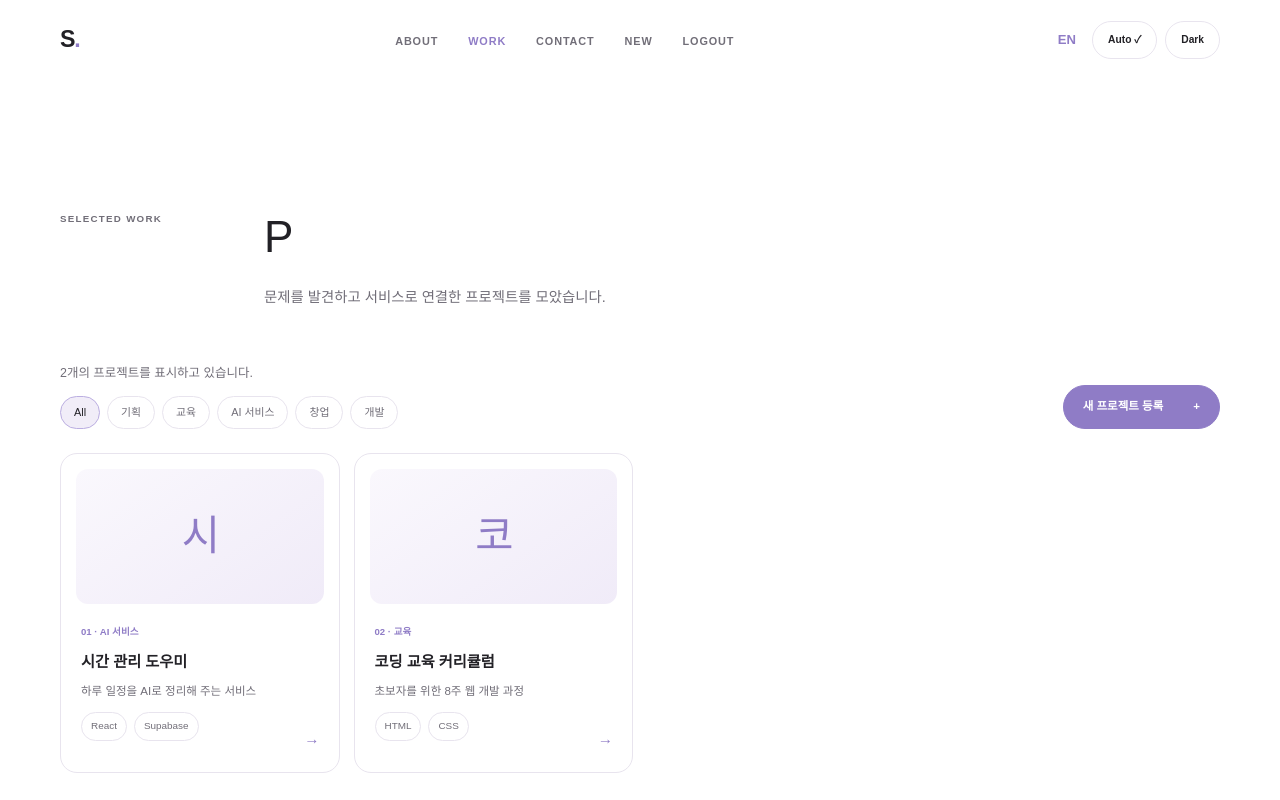
WORK 페이지 화면 개선 › 필터 결과가 없으면 전체 보기 버튼으로 필터를 되돌린다
The width and height of the screenshot is (1280, 800).
What coordinates should you click on to do the following:
click the button "창업"
I would click on:
 (319, 412)
Its box is [295,396,343,429].
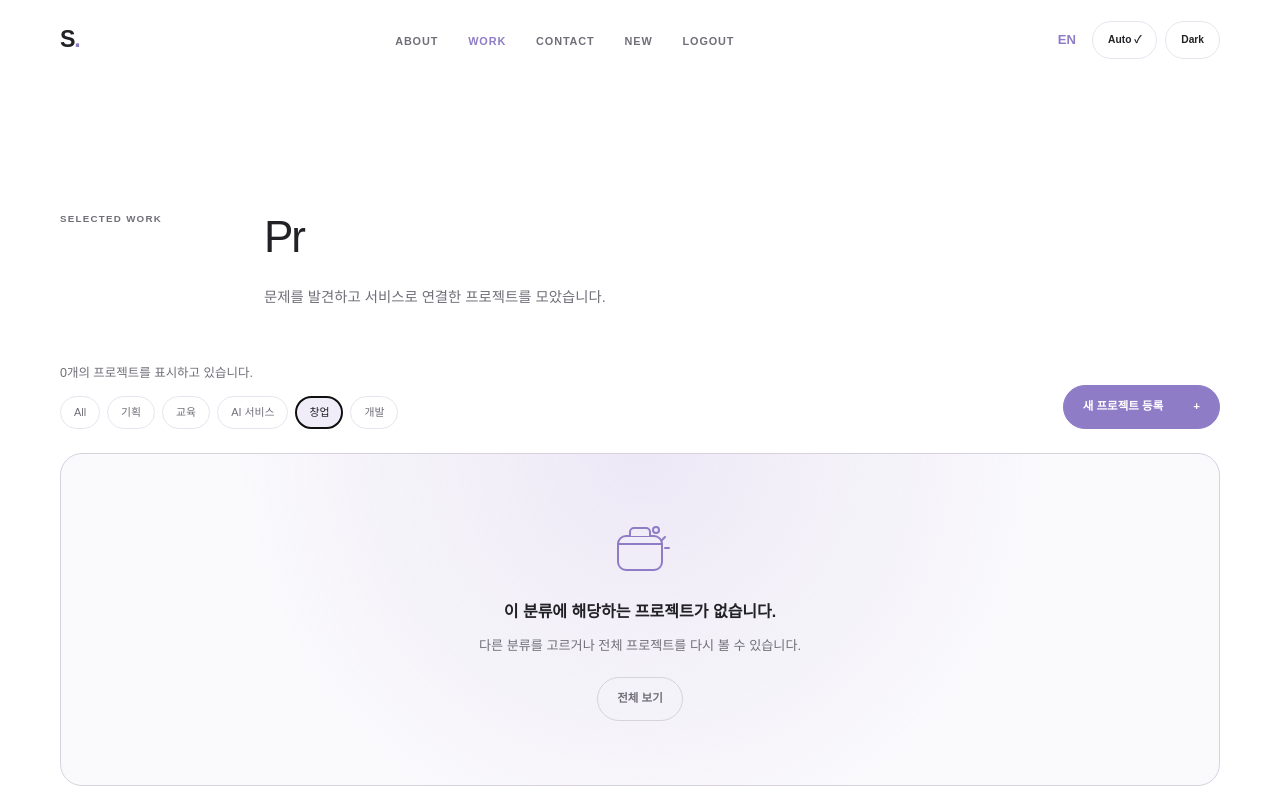
What coordinates should you click on to do the following:
click the button "전체 보기"
I would click on:
 (640, 699)
Its box is [597,677,683,721].
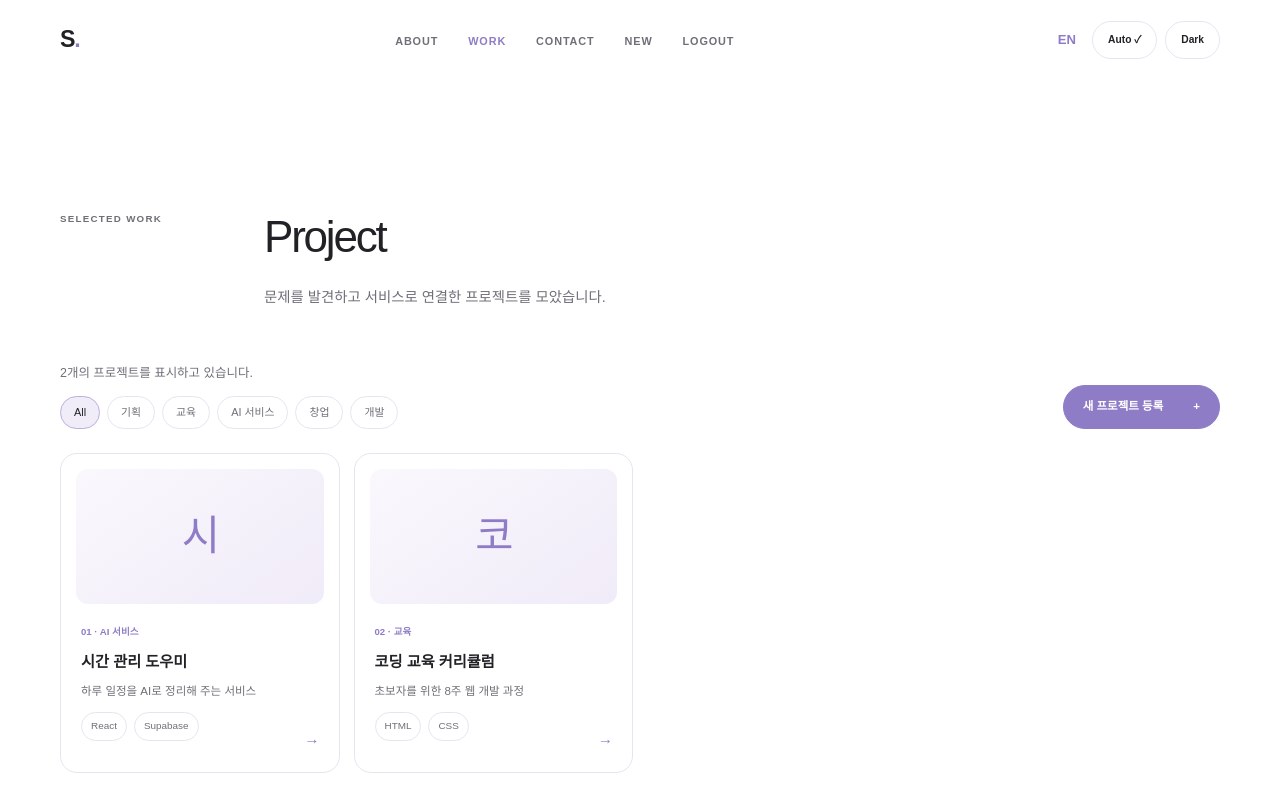
Expected: the text "2개의 프로젝트를 표시하고 있습니다." is shown, [60,366,253,380]
